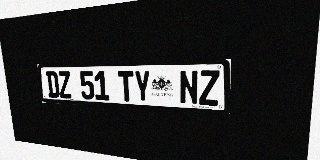1: (93, 71, 109, 100)
5: (80, 71, 95, 100)
D: (46, 71, 60, 98)
N: (179, 70, 198, 105)
T: (118, 71, 135, 102)
Y: (134, 71, 151, 102)
Z: (199, 70, 220, 106), (57, 71, 72, 99)
